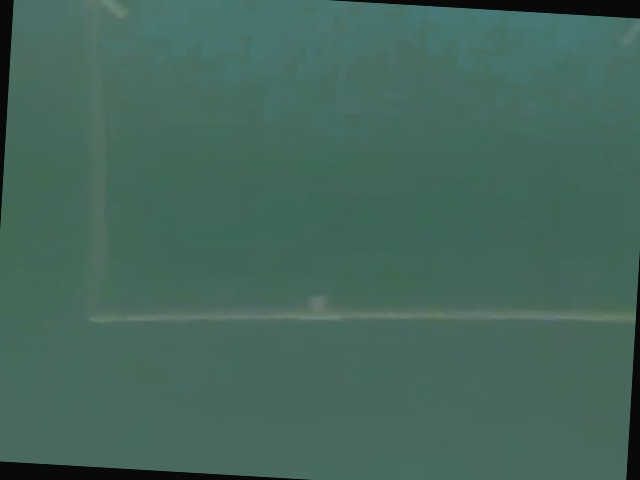gate: (74, 4, 638, 333)
